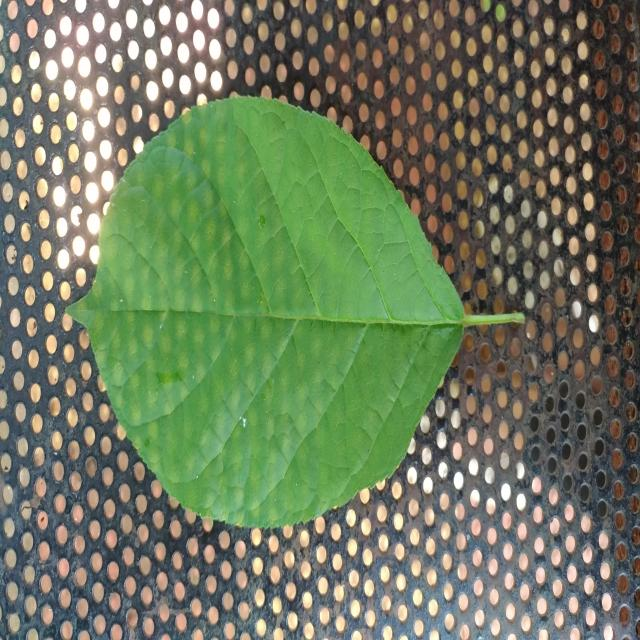padri: (69, 98, 475, 527)
